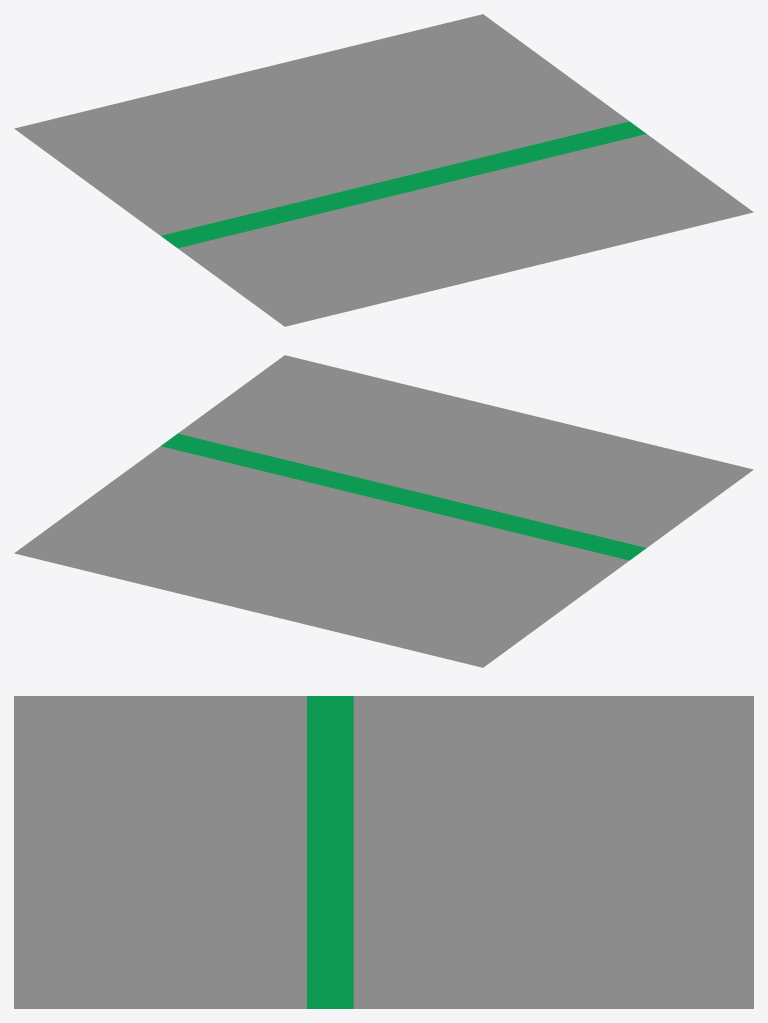
3 renders of one model, top to bottom at view 1: azimuth 30°, elevation 25°; view 2: azimuth 150°, elevation 25°; view 3: azimuth 270°, elevation 25°, orthographic. The views are drawn at different scales.
Parts seen in each view (by area): view 1: 地1; view 2: 地1; view 3: 地1.
Part boxes in pixels (<box>): 地1: <box>14,14,753,326</box>; 地1: <box>14,355,753,667</box>; 地1: <box>14,696,753,1008</box>.
Bounding box in the file's own units: 75.48 × 1.23e-05 × 75.48.
